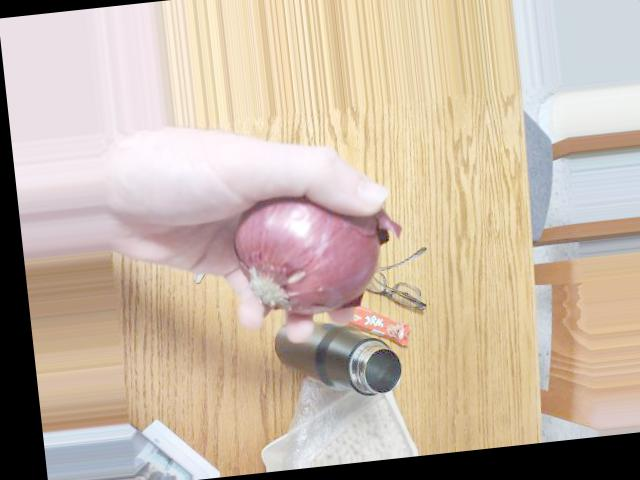onion: (236, 173, 369, 302)
